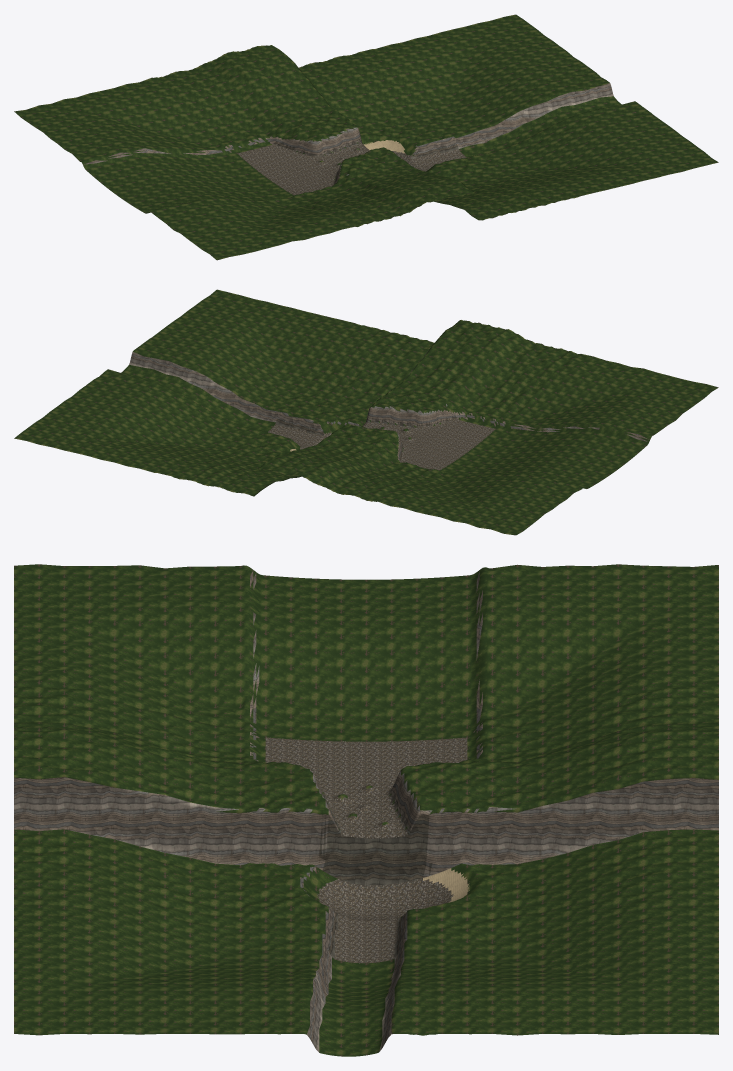
File: terrain.glb
3 views of the same model, one above another, from view 1: azimuth 30°, elevation 25°; view 2: azimuth 150°, elevation 25°; view 3: azimuth 270°, elevation 25° (orthographic). The views are drawn at different scales.
Visible parts, largest first — view 1: Valley; view 2: Valley; view 3: Valley.
Boxes of the visible parts, box(x1,y1,x2,y2) form: Valley: box(14, 14, 718, 260); Valley: box(14, 289, 718, 535); Valley: box(14, 564, 718, 1056).
Bounding box in the file's own units: 160 × 21.36 × 112.
Materials: 5 (5 with a texture image).
